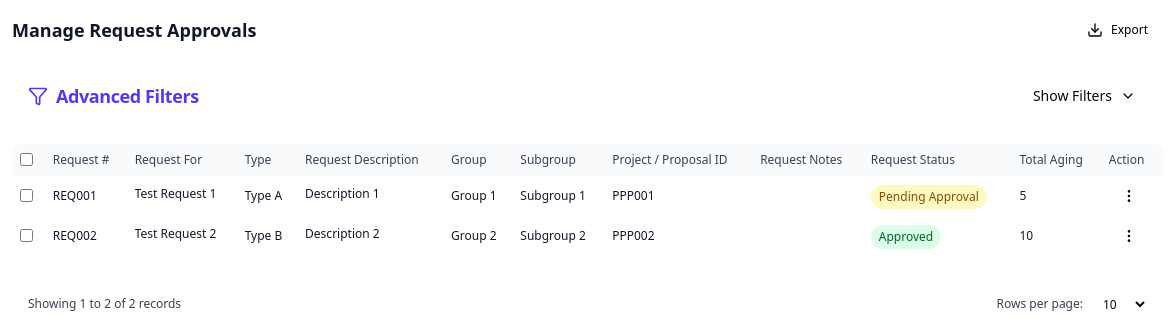
ApprovalsContent › Selection › should deselect items when unchecked
This screenshot has width=1176, height=328.
Click the checkbox next to "Request #": (26, 160) [20, 153, 33, 166]
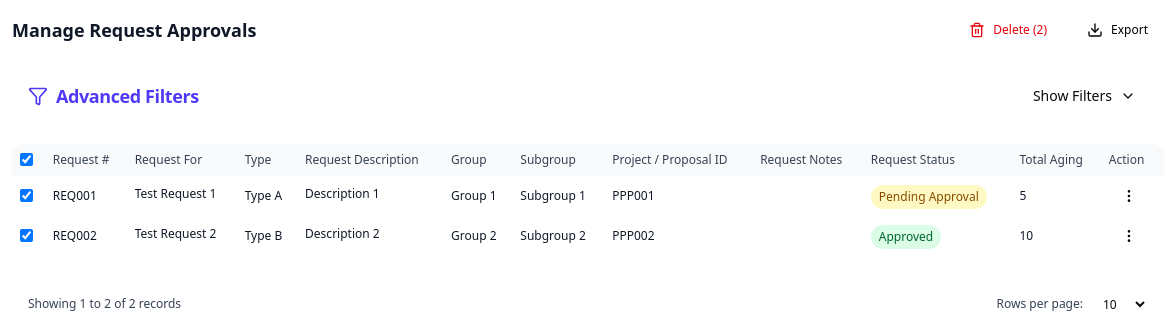
Click the checkbox next to "Request #": (26, 160) [20, 153, 33, 166]
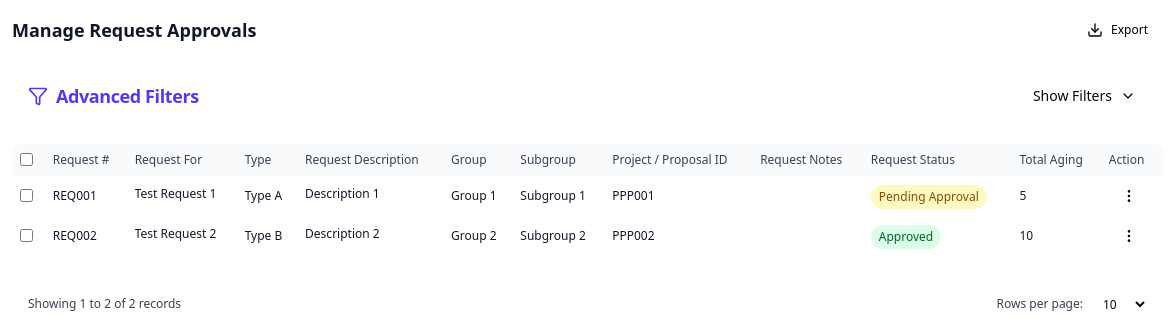
Expected: the button "Delete (2)" is gone
